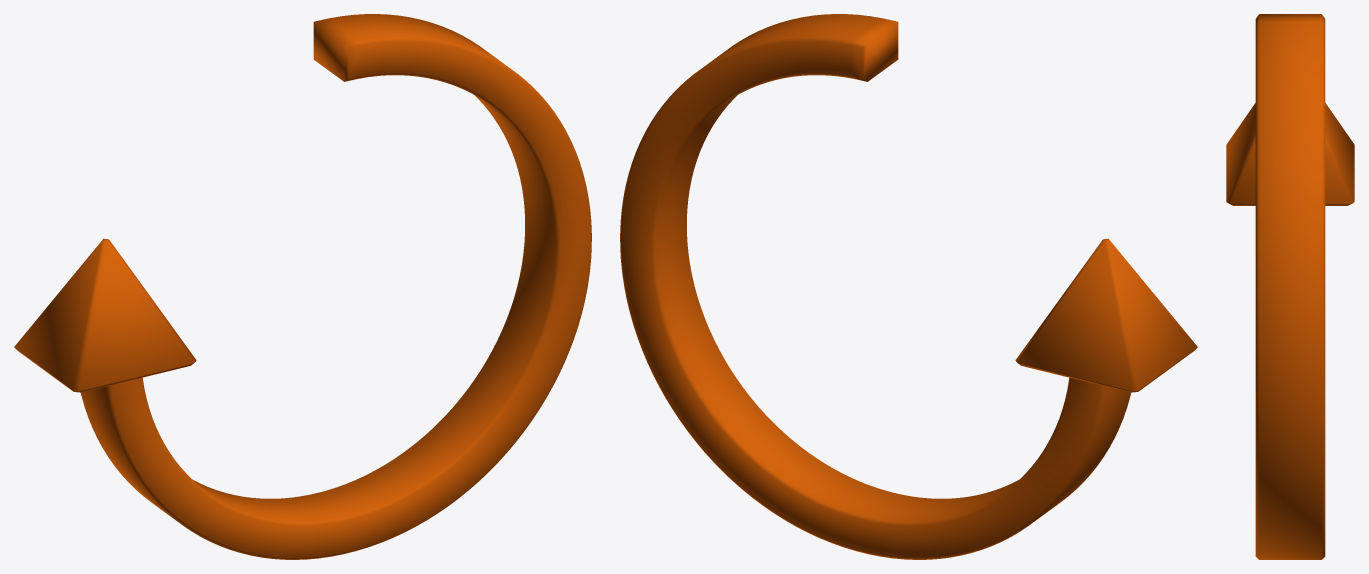
Rendered from TimelineElement_GoHome.dae.
3 renders of one model, left to right at view 1: azimuth 30°, elevation 25°; view 2: azimuth 150°, elevation 25°; view 3: azimuth 270°, elevation 25°, orthographic.
Visible parts, largest first — view 1: Arc002_Untitled_003; view 2: Arc002_Untitled_003; view 3: Arc002_Untitled_003.
Part boxes in pixels (x1,y1,x2,y2): Arc002_Untitled_003: (14,14,591,559); Arc002_Untitled_003: (620,14,1197,559); Arc002_Untitled_003: (1226,14,1354,559).
Bounding box in the file's own units: 0.9001 × 0.1849 × 0.823.
